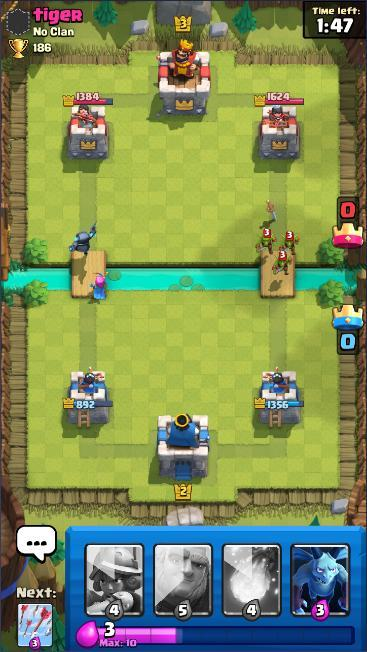ally_archer: (88, 269, 112, 302)
enemy_goblin: (255, 228, 279, 258), (278, 228, 302, 257), (271, 250, 294, 277)
enemy_mini_pekka: (66, 219, 101, 259)
